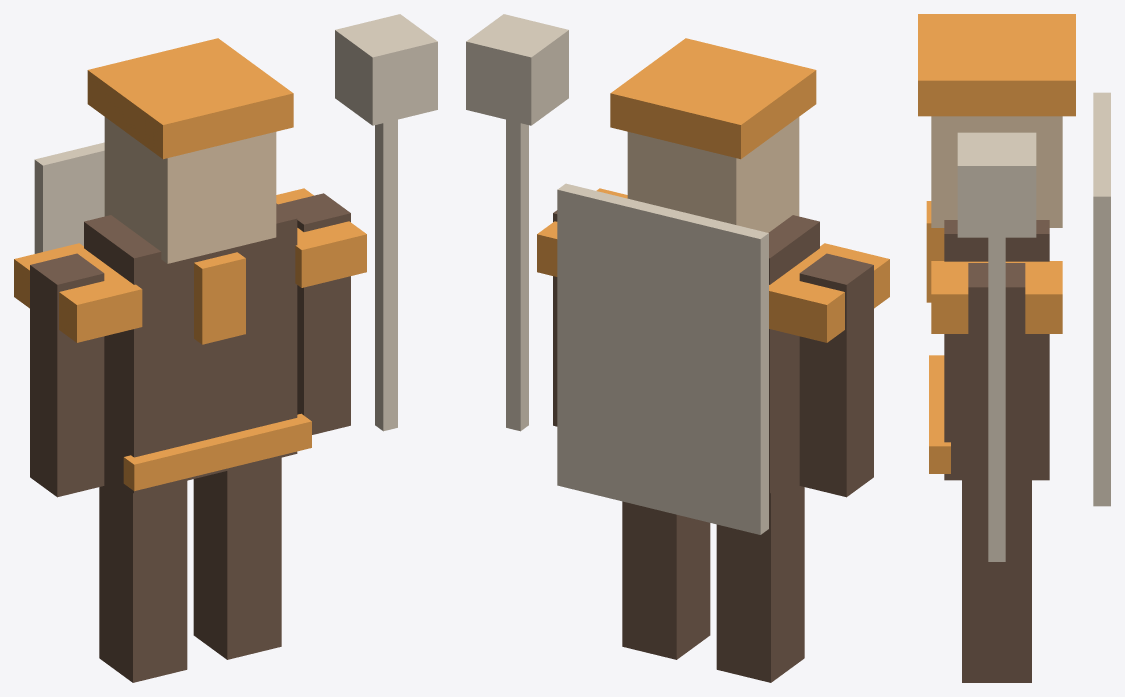
File: 15_tamsin_voidrill_tamer_from_bonewind.glb
The picture shows the model from 3 angles, left to right: view 1: azimuth 30°, elevation 25°; view 2: azimuth 150°, elevation 25°; view 3: azimuth 270°, elevation 25°; orthographic projection. The views are drawn at different scales.
Visible parts, largest first — view 1: Tamsin Voidrill, Tamer from Bonewind; view 2: Tamsin Voidrill, Tamer from Bonewind; view 3: Tamsin Voidrill, Tamer from Bonewind.
Boxes of the visible parts, bbox=[...] form: Tamsin Voidrill, Tamer from Bonewind: bbox=[14, 14, 437, 682]; Tamsin Voidrill, Tamer from Bonewind: bbox=[466, 14, 889, 682]; Tamsin Voidrill, Tamer from Bonewind: bbox=[918, 14, 1110, 682].
Size of the model in its own units: 0.9733 by 1.41 by 0.4138.
